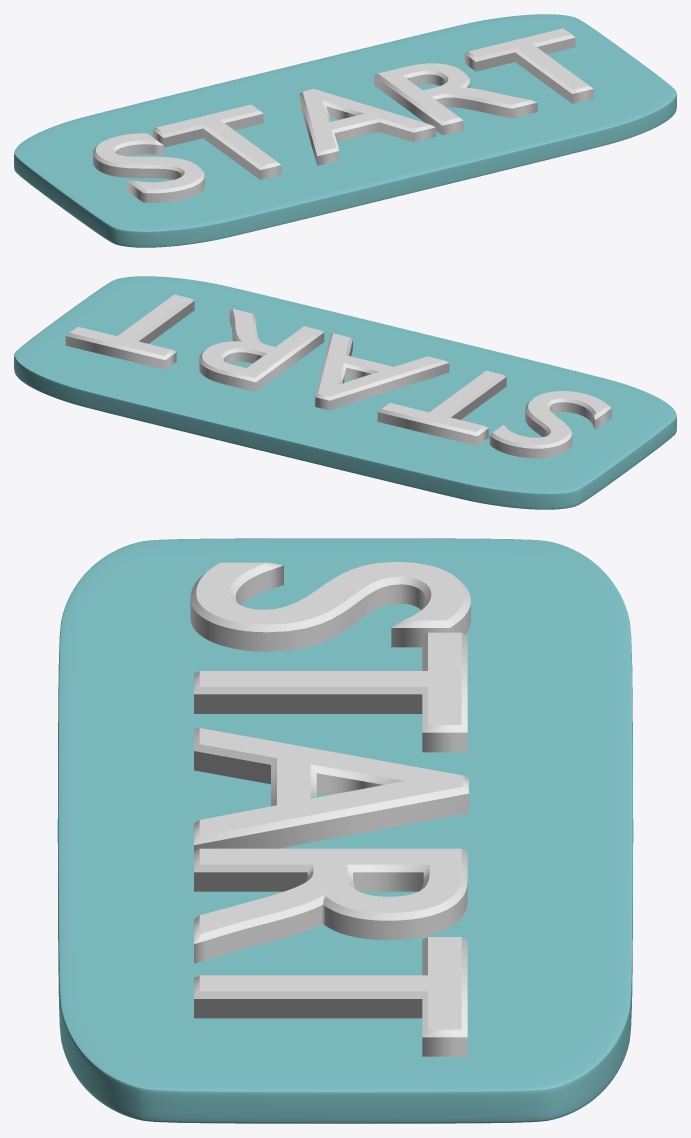
The model's file is start_button.fbx.
The picture shows the model from 3 angles, top to bottom: view 1: azimuth 30°, elevation 25°; view 2: azimuth 150°, elevation 25°; view 3: azimuth 270°, elevation 25°; orthographic projection. The views are drawn at different scales.
Parts seen in each view (by area): view 1: 立方体.001, テキスト; view 2: 立方体.001, テキスト; view 3: 立方体.001, テキスト.
Part boxes in pixels (bbox=[...]): 立方体.001: bbox=[14, 14, 676, 247]; テキスト: bbox=[93, 28, 593, 202]; 立方体.001: bbox=[14, 276, 676, 509]; テキスト: bbox=[65, 294, 611, 458]; 立方体.001: bbox=[57, 538, 633, 1123]; テキスト: bbox=[190, 562, 470, 1056].
Bounding box in the file's own units: 341 × 17.22 × 150.
